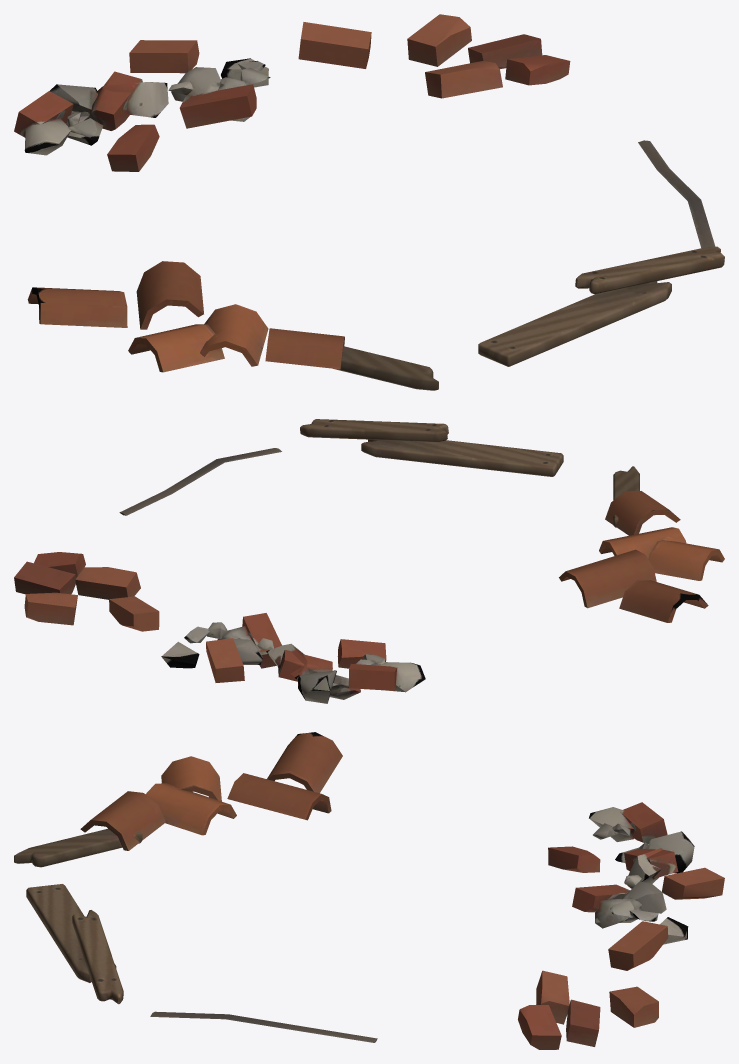
The model's file is rough-town-2.glb.
3 views of the same model, one above another, from view 1: azimuth 30°, elevation 25°; view 2: azimuth 150°, elevation 25°; view 3: azimuth 270°, elevation 25° (orthographic). The views are drawn at different scales.
Parts seen in each view (by area): view 1: rough-town-2; view 2: rough-town-2; view 3: rough-town-2.
Part boxes in pixels (x1=…): rough-town-2: x1=14, y1=14, x2=724, y2=390; rough-town-2: x1=14, y1=419, x2=724, y2=703; rough-town-2: x1=14, y1=732, x2=724, y2=1049.
Size of the model in its own units: 1.69 by 0.1266 by 1.76.
1 material, 1 textured.
